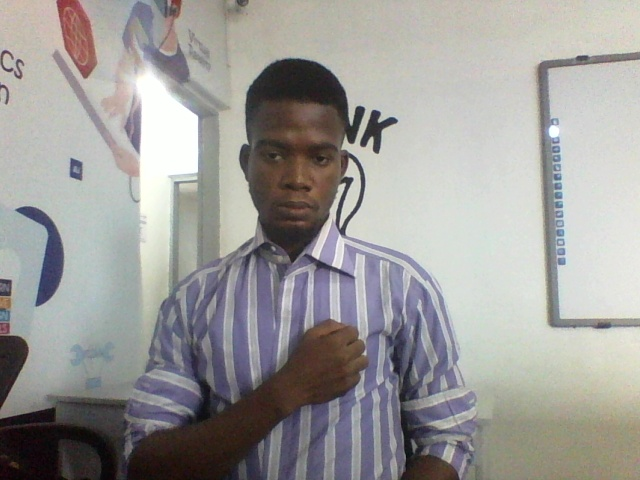sorry: (198, 317, 370, 453)
